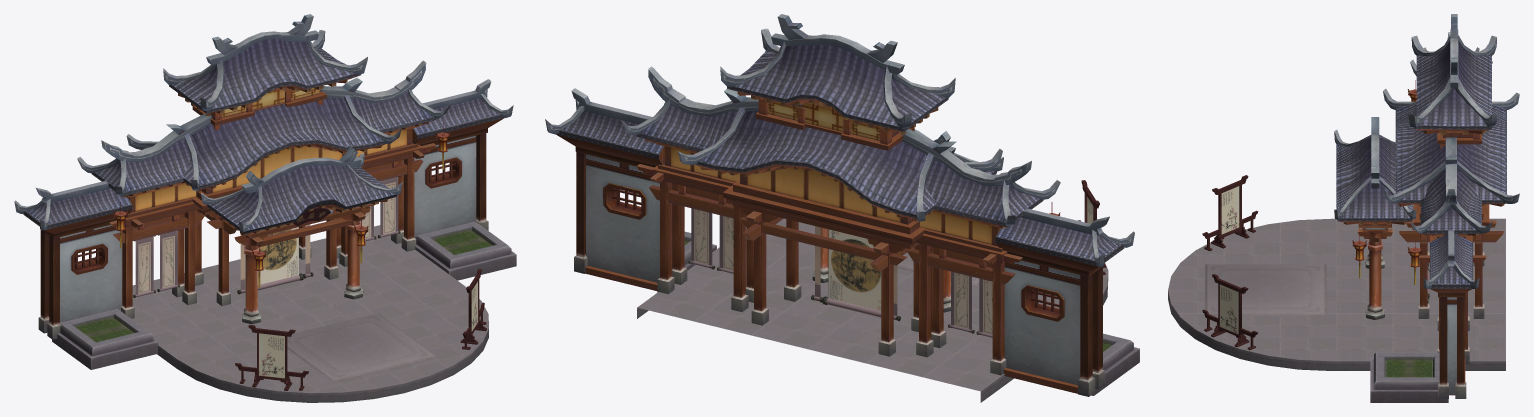
File: ZYbui_CLF_huapaifang01.FBX
The picture shows the model from 3 angles, left to right: view 1: azimuth 30°, elevation 25°; view 2: azimuth 150°, elevation 25°; view 3: azimuth 270°, elevation 25°; orthographic projection. The views are drawn at different scales.
Parts seen in each view (by area): view 1: ZYbui_CLF_huapaifang01, ZYthi_CLF_huapingfeng01 (×2), ZYthi_CLF_huazhou06, ZYthi_CLF_huazhou01, ZYthi_CLF_huazhou02, ZYthi_CLF_huazhou04; view 2: ZYbui_CLF_huapaifang01, ZYthi_CLF_huazhou06, ZYthi_CLF_huazhou04, ZYthi_CLF_huazhou02, ZYthi_CLF_huazhou03, ZYthi_CLF_huazhou01; view 3: ZYbui_CLF_huapaifang01, ZYthi_CLF_huapingfeng01 (×2).
Part boxes in pixels (x1,y1,x2,y2): ZYbui_CLF_huapaifang01: (14,14,516,402); ZYthi_CLF_huapingfeng01 (×2): (235,269,486,390); ZYthi_CLF_huazhou06: (237,224,313,294); ZYthi_CLF_huazhou01: (133,235,155,297); ZYthi_CLF_huazhou02: (157,229,179,291); ZYthi_CLF_huazhou04: (378,176,400,238); ZYbui_CLF_huapaifang01: (545,14,1139,402); ZYthi_CLF_huazhou06: (811,226,900,321); ZYthi_CLF_huazhou04: (688,208,714,269); ZYthi_CLF_huazhou02: (948,271,974,333); ZYthi_CLF_huazhou03: (717,215,733,273); ZYthi_CLF_huazhou01: (976,278,992,337); ZYbui_CLF_huapaifang01: (1168,14,1519,402); ZYthi_CLF_huapingfeng01 (×2): (1202,175,1258,350).
Bounding box in the file's own units: 2210 × 1165 × 1417.
